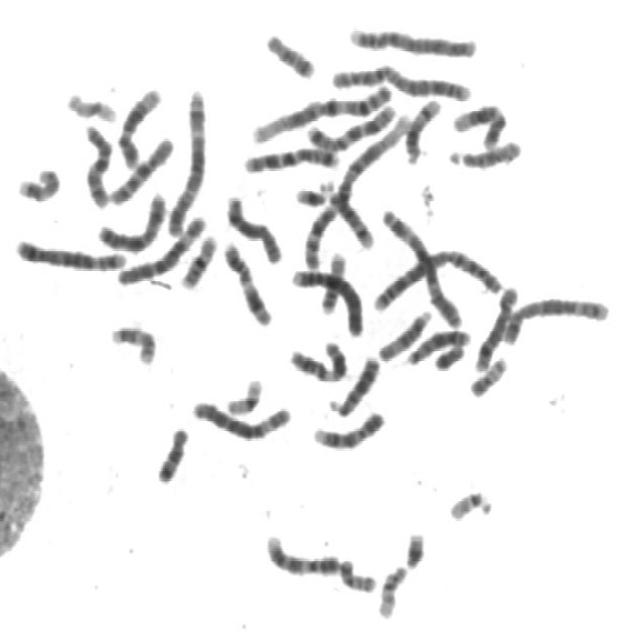A1: (300, 103, 415, 270), (247, 76, 398, 146)
A2: (368, 241, 507, 313), (326, 57, 476, 102)
A3: (378, 201, 467, 329), (163, 82, 211, 238)
B4: (287, 260, 368, 338), (344, 18, 481, 59)
B5: (498, 289, 614, 347), (10, 231, 130, 272)
C10: (105, 129, 178, 207), (78, 117, 116, 210)
C11: (218, 234, 277, 328), (286, 332, 352, 384)
C12: (113, 79, 165, 170), (448, 96, 511, 150)
C6: (112, 206, 210, 286), (187, 392, 297, 442)
C7: (302, 97, 400, 152), (240, 139, 344, 174)
C8: (221, 187, 287, 266), (470, 278, 522, 373)
C9: (262, 526, 345, 578), (309, 403, 390, 451)
D13: (325, 348, 384, 417), (401, 321, 475, 367)
D14: (322, 179, 378, 250), (400, 91, 445, 165)
D15: (373, 301, 437, 363), (445, 131, 526, 170)
E16: (176, 226, 221, 291), (316, 246, 350, 316)
E17: (107, 316, 161, 366), (12, 160, 64, 204)
E18: (261, 24, 320, 80), (152, 418, 193, 486)
F19: (62, 84, 121, 124), (221, 369, 268, 417)
F20: (465, 348, 512, 399), (334, 551, 380, 595)
G21: (291, 174, 336, 209), (400, 523, 430, 571)
G22: (445, 482, 498, 522), (380, 557, 410, 621)
X: (93, 184, 171, 253)
Y: (430, 337, 469, 371)
